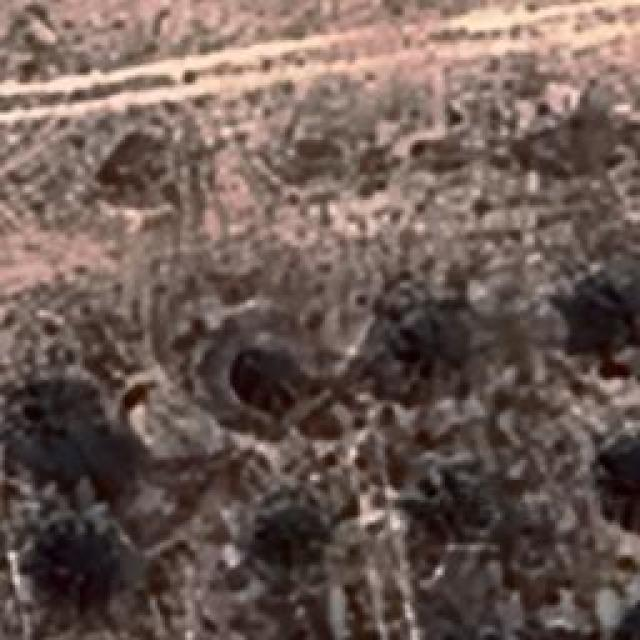PalmTree: (256, 492, 349, 578), (11, 378, 101, 464), (25, 512, 110, 602), (407, 465, 495, 550), (392, 300, 470, 372), (587, 428, 640, 533), (230, 344, 305, 418), (567, 279, 640, 352)
